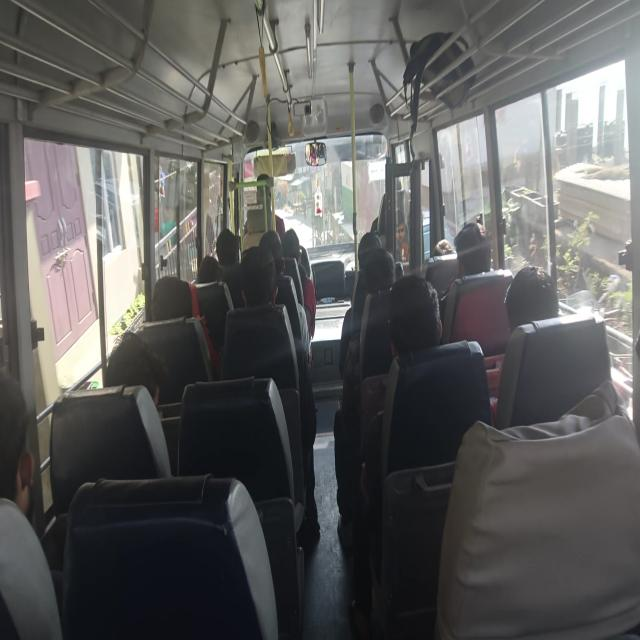person: (435, 377, 639, 638), (349, 274, 443, 636), (221, 245, 319, 539), (334, 247, 396, 549), (0, 372, 63, 638), (486, 265, 559, 419), (258, 229, 313, 366), (104, 330, 168, 409), (504, 264, 559, 334), (281, 228, 316, 338), (215, 228, 242, 308), (454, 221, 491, 277), (526, 224, 547, 268), (394, 209, 410, 262), (196, 254, 222, 284), (432, 238, 454, 257)
